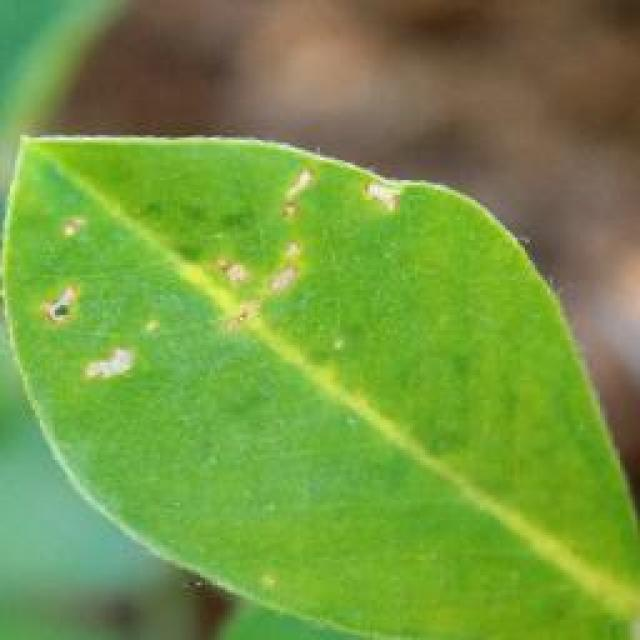Yellow_and_black_sigatoka: (7, 102, 640, 637)
